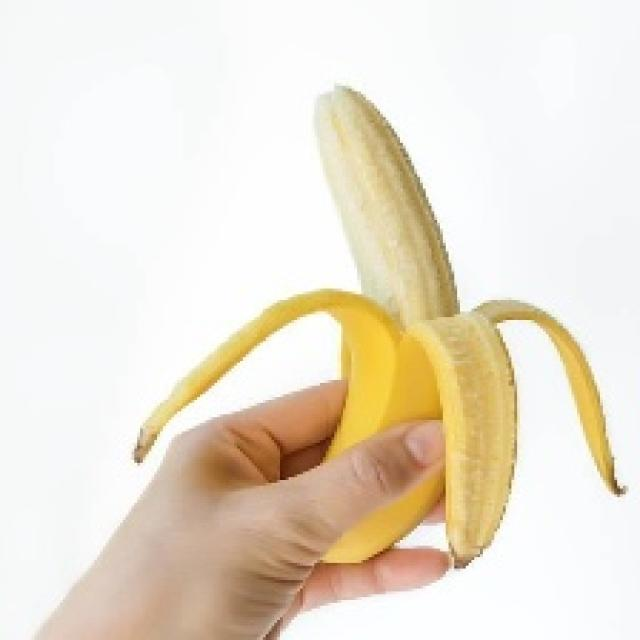Banana: (131, 80, 626, 569)
